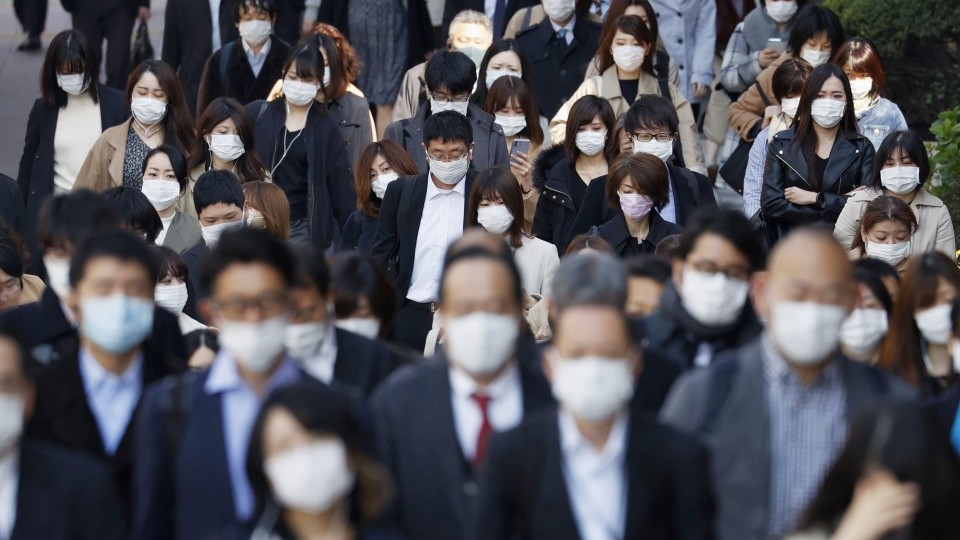with_mask: (263, 430, 359, 516), (546, 340, 638, 425), (77, 269, 156, 359), (205, 289, 289, 372), (772, 278, 847, 368), (443, 296, 522, 380), (679, 253, 755, 335), (839, 296, 893, 362), (280, 297, 327, 367), (912, 286, 956, 354), (334, 293, 387, 344), (861, 221, 910, 269), (41, 236, 76, 302), (424, 142, 469, 191), (1, 367, 26, 451), (199, 206, 245, 250), (140, 168, 180, 215), (154, 273, 192, 320), (811, 84, 846, 134), (450, 24, 488, 69), (610, 32, 646, 78), (130, 83, 167, 127), (629, 128, 675, 163), (476, 198, 517, 237), (879, 158, 921, 196), (280, 67, 318, 108), (619, 181, 653, 226), (485, 54, 523, 94), (208, 124, 246, 162), (573, 119, 608, 159), (370, 159, 400, 201), (237, 13, 271, 50), (494, 102, 527, 139), (842, 64, 874, 101), (427, 90, 467, 118), (54, 65, 90, 96), (800, 36, 831, 70), (762, 1, 802, 26), (541, 1, 575, 23), (780, 90, 800, 120)
